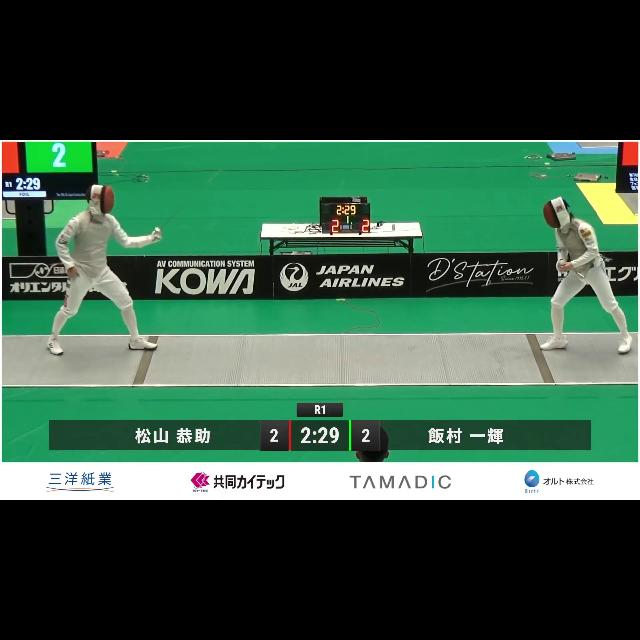blade: (154, 164, 230, 242), (556, 260, 586, 282)
